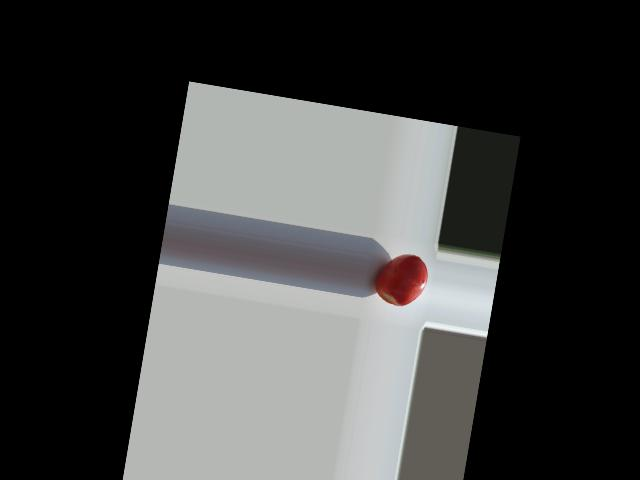tomato: (372, 249, 430, 309)
